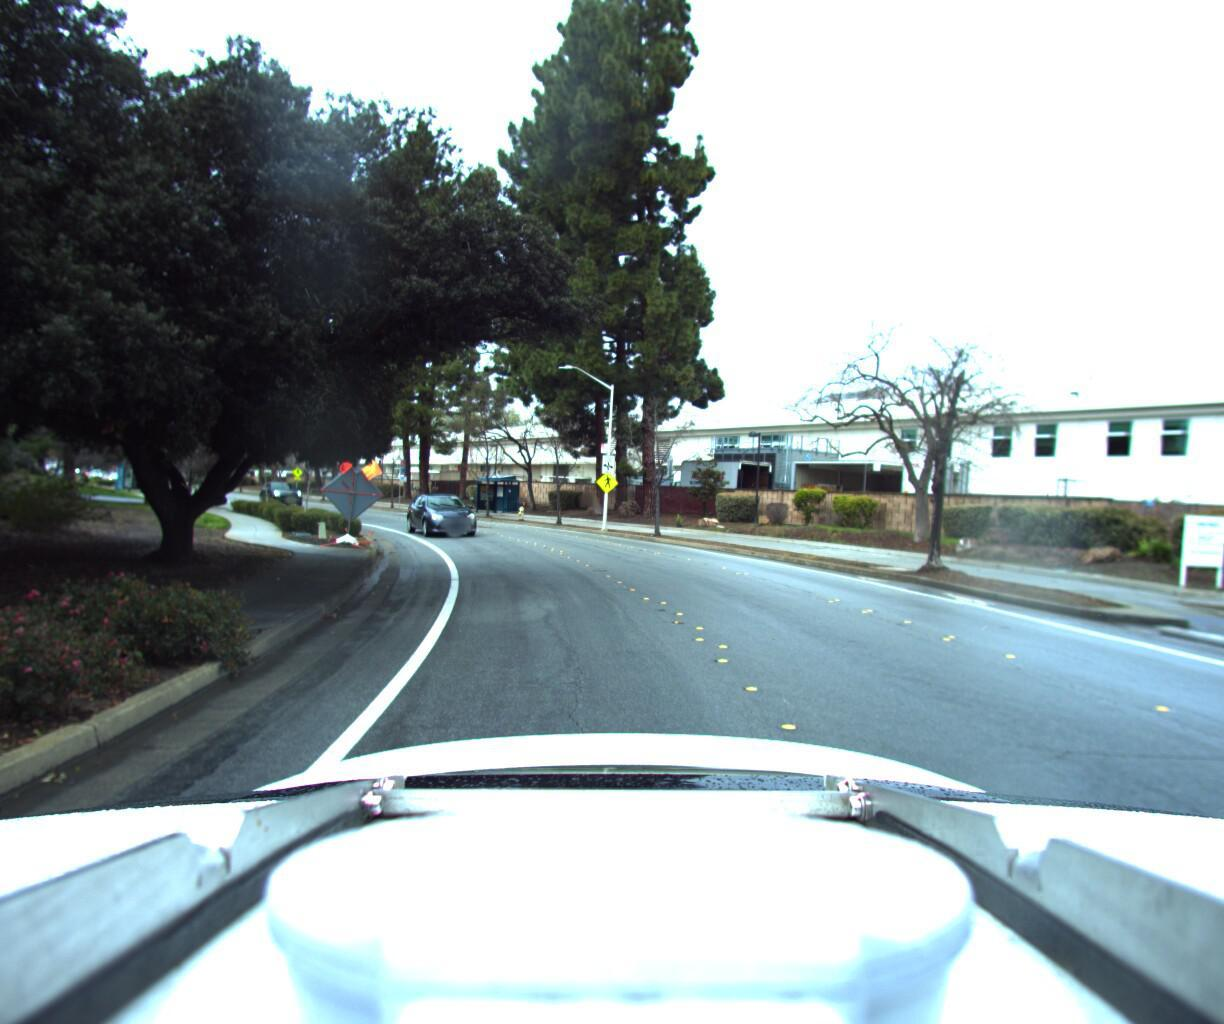car: (397, 487, 481, 539), (257, 479, 303, 506)
truck: (661, 451, 776, 510)
